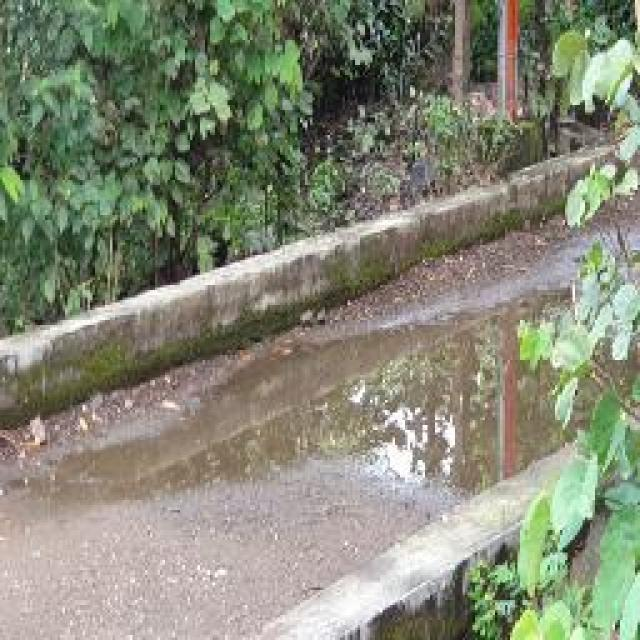puddle: (55, 292, 640, 515)
